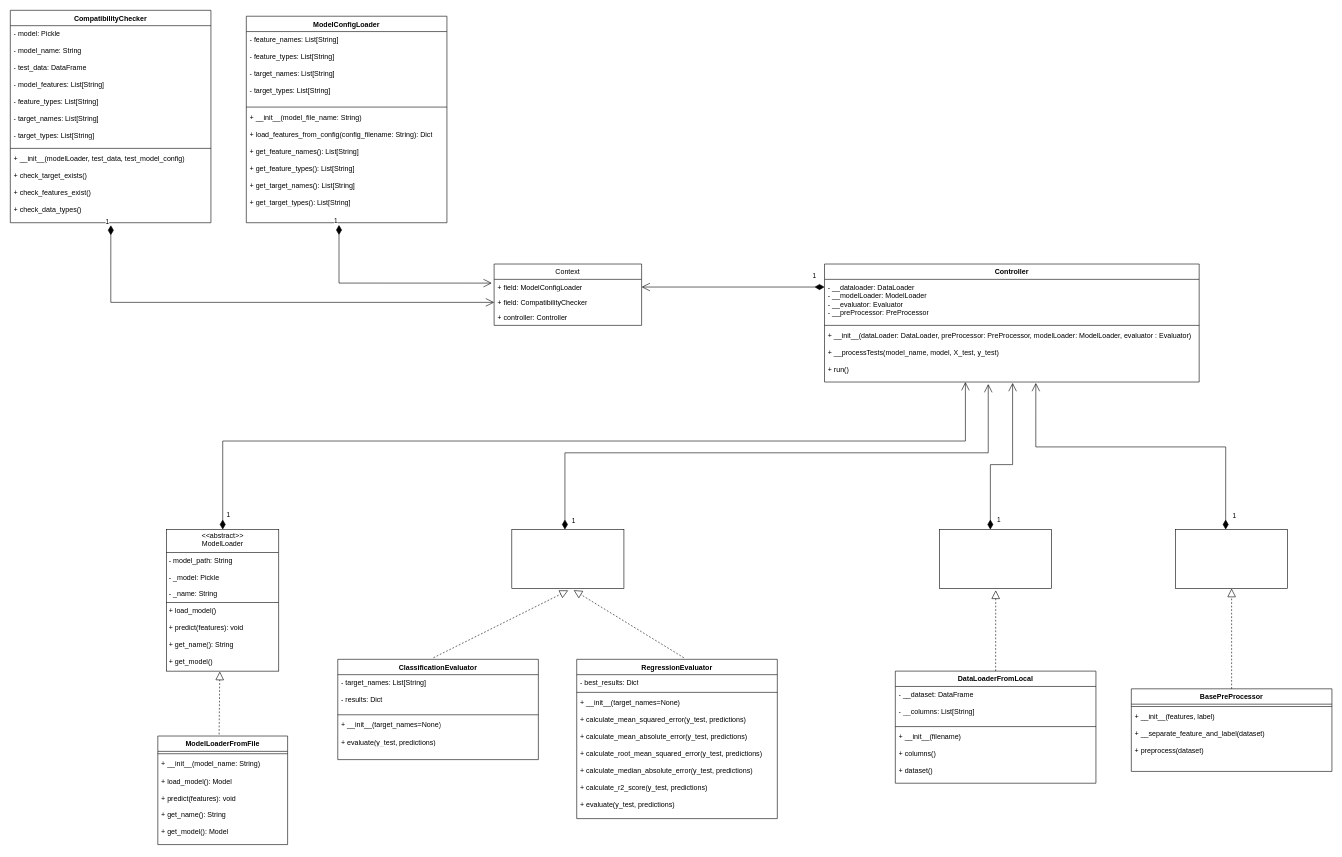
Some shapes in this 1342 by 857 pixel diagram are drawn without their labels. The shapes that lost their labels are listed below. From the top down, each one's centre as x and y in pixels, then its label:
At [567,559]: "<< abstract >> Evaluator + evaluate(y_test, predictions)".
At [995,559]: "<< abstract >> DataLoader + dataset()".
At [1231,559]: "<< abstract >> PreProcessor + preprocess(dataset)".
